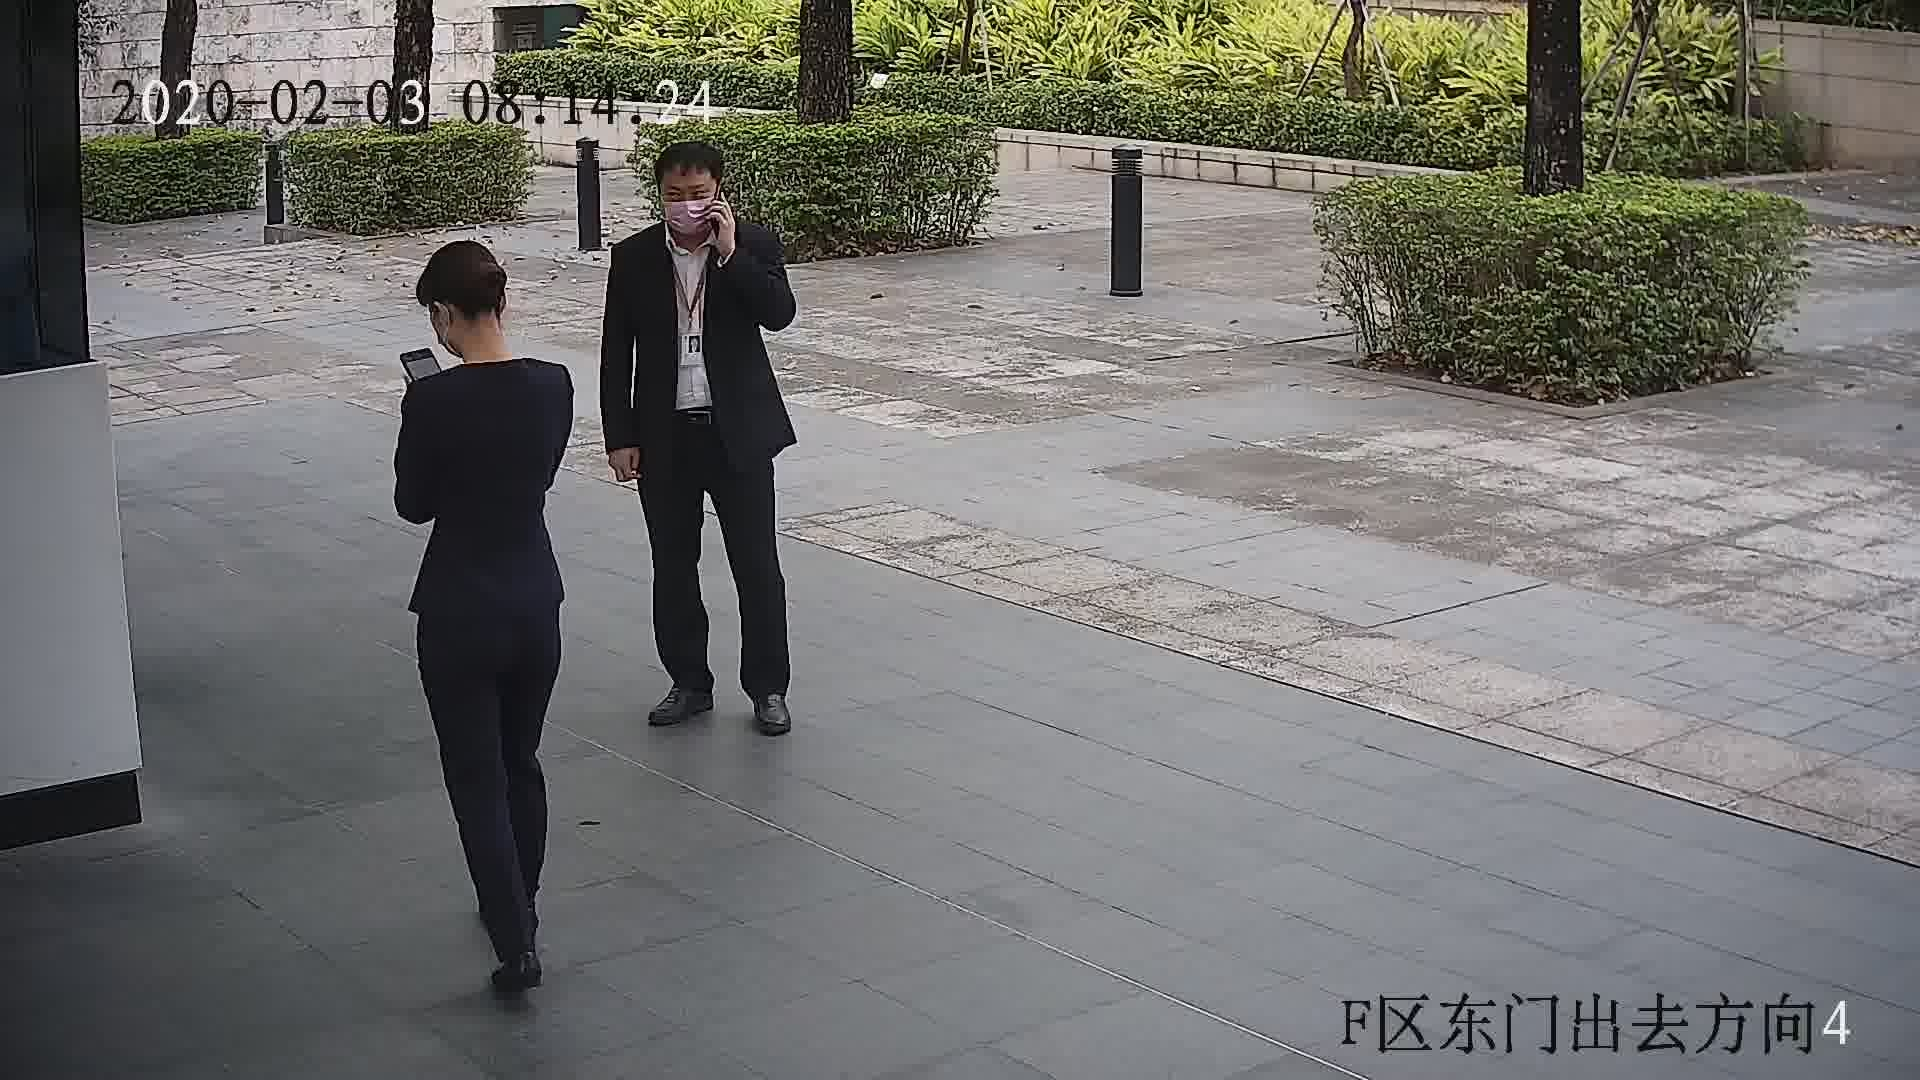face: (646, 161, 725, 238)
mask: (654, 194, 716, 238)
person: (404, 240, 573, 434), (608, 140, 780, 285)
